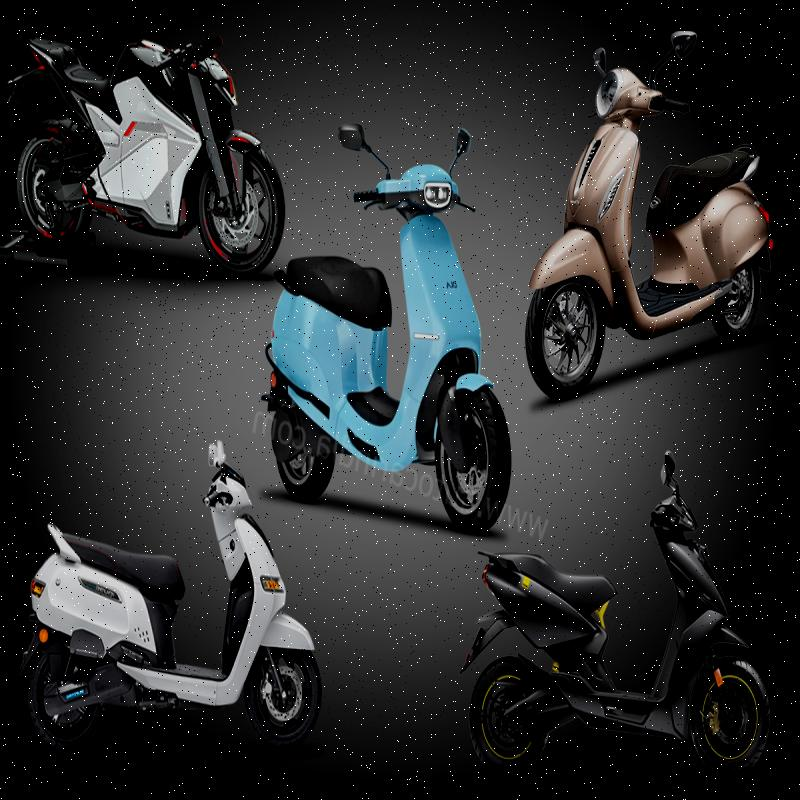bike: (450, 395, 793, 782), (240, 121, 568, 514), (523, 0, 800, 407), (21, 393, 294, 771), (2, 9, 314, 286)
